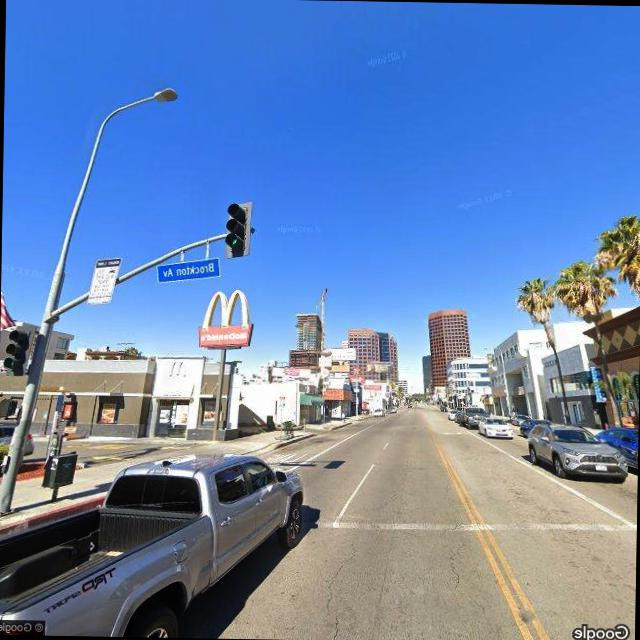pothole: (318, 539, 359, 640), (445, 536, 469, 594)
